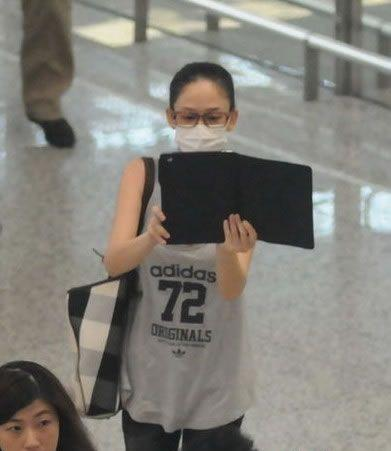NONE: (2, 403, 58, 451)
OK: (171, 94, 236, 159)
